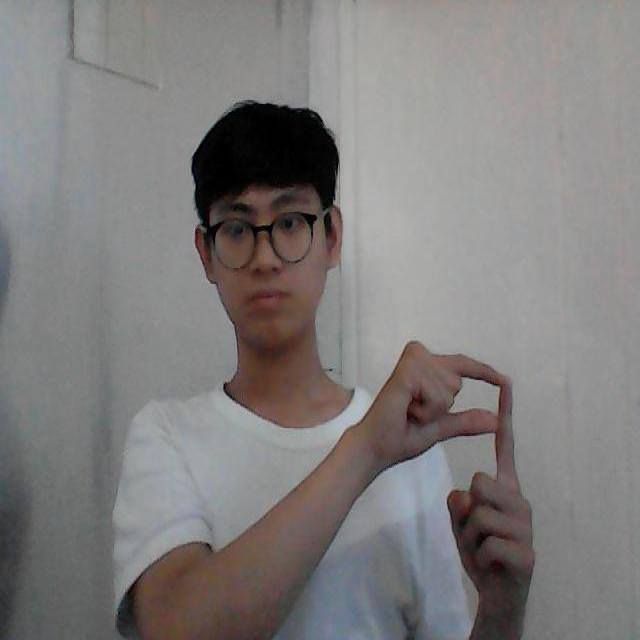P: (382, 331, 566, 574)
